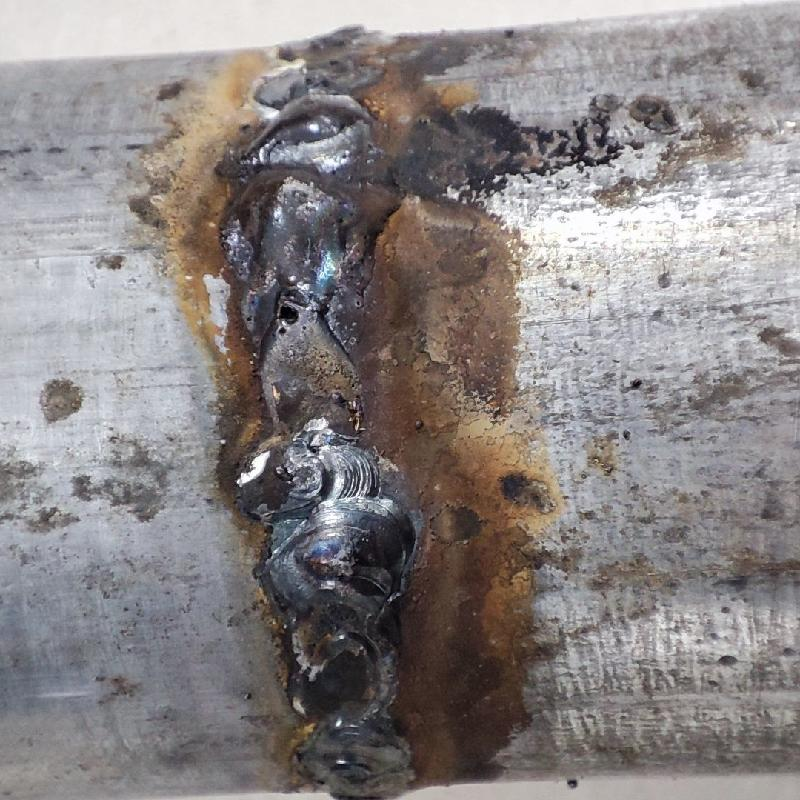Not_fully_soldered: (237, 290, 369, 435)
Surface_pores: (265, 295, 307, 340)
Weld: (235, 100, 384, 287)
wrong_size: (241, 439, 413, 795)
